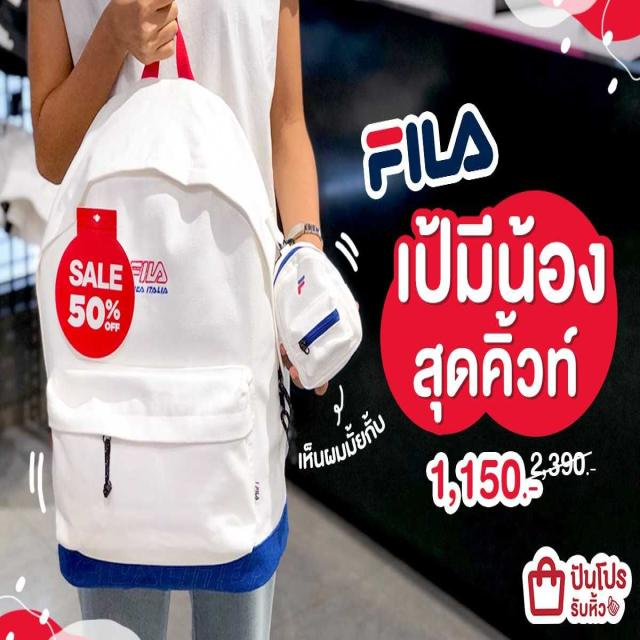Handbag: (34, 68, 285, 612)
